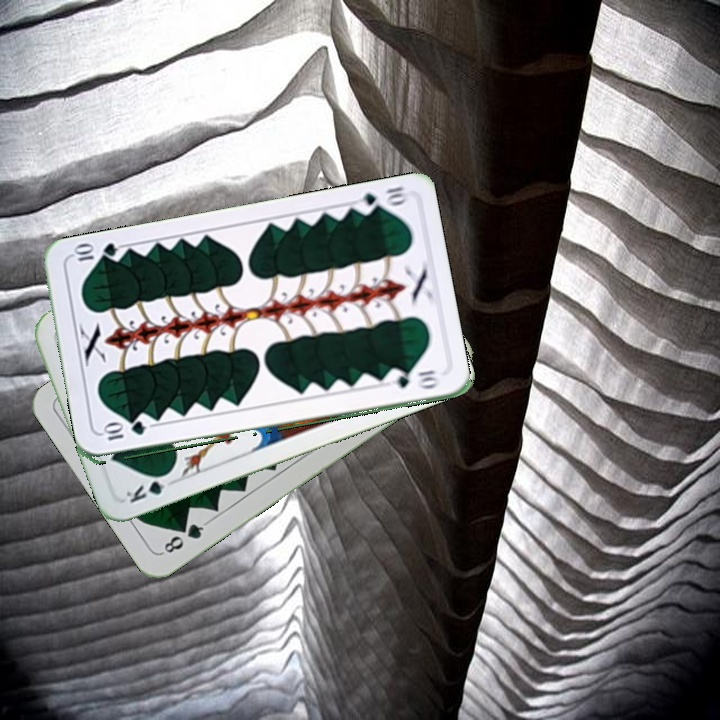G10: (350, 182, 409, 217), (99, 420, 149, 443)
G8: (158, 518, 210, 557)
GK: (122, 468, 179, 506)
